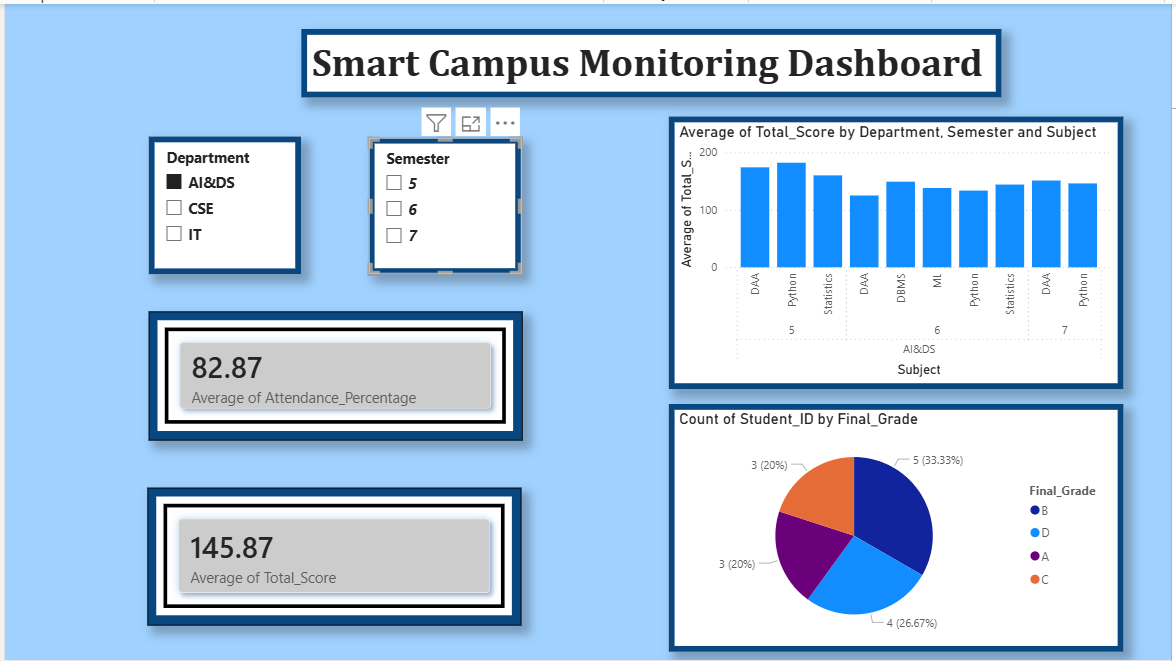

The page's visual inventory and layout, read from the dashboard file:
{"tool":"powerbi","page":{"name":"Page 1","canvas":[1280,720],"ordinal":0},"visuals":[{"type":"textbox","box":[325.2,27.4,768.4,75.5],"z":0},{"type":"cardVisual","fields":{"Data":["Avg(5 student_performance.Attendance_Percentage)"]},"box":[157.8,337.6,410.3,141.3],"z":1000},{"type":"cardVisual","fields":{"Data":["Avg(5 student_performance.Total_Score)"]},"box":[156.4,531,410.3,150.9],"z":2000},{"type":"slicer","fields":{"Values":["5 student_performance.Department"]},"box":[157.8,145.5,167.4,150.9],"z":3000},{"type":"slicer","fields":{"Values":["5 student_performance.Semester"]},"box":[399.3,146.8,167.4,149.6],"z":4000},{"type":"clusteredColumnChart","fields":{"Y":["Avg(5 student_performance.Total_Score)"],"Category":["5 student_performance.Department","5 student_performance.Semester","5 student_performance.Subject"]},"box":[728.6,123.5,499.5,299.1],"z":5000},{"type":"pieChart","fields":{"Category":["5 student_performance.Final_Grade"],"Y":["CountNonNull(5 student_performance.Student_ID)"]},"box":[728.6,439.1,499.5,271.7],"z":6000}]}

Visuals, with their boxes in screenshot pixels (x1, y1, x2, y2), scaled from the page's 1280x720 canvas onto the 1176x661 screenshot:
textbox: <box>299,25,1005,94</box>
cardVisual - Avg(5 student_performance.Attendance_Percentage): <box>145,310,522,440</box>
cardVisual - Avg(5 student_performance.Total_Score): <box>144,487,521,626</box>
slicer - 5 student_performance.Department: <box>145,134,299,272</box>
slicer - 5 student_performance.Semester: <box>367,135,521,272</box>
clusteredColumnChart - Avg(5 student_performance.Total_Score) x 5 student_performance.Department: <box>669,113,1128,388</box>
pieChart - 5 student_performance.Final_Grade x CountNonNull(5 student_performance.Student_ID): <box>669,403,1128,653</box>
